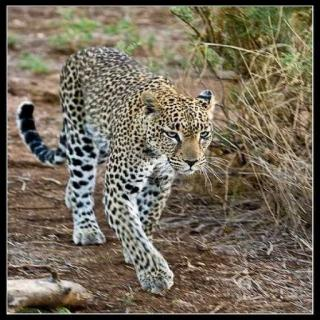Leopard: (19, 34, 212, 320)
